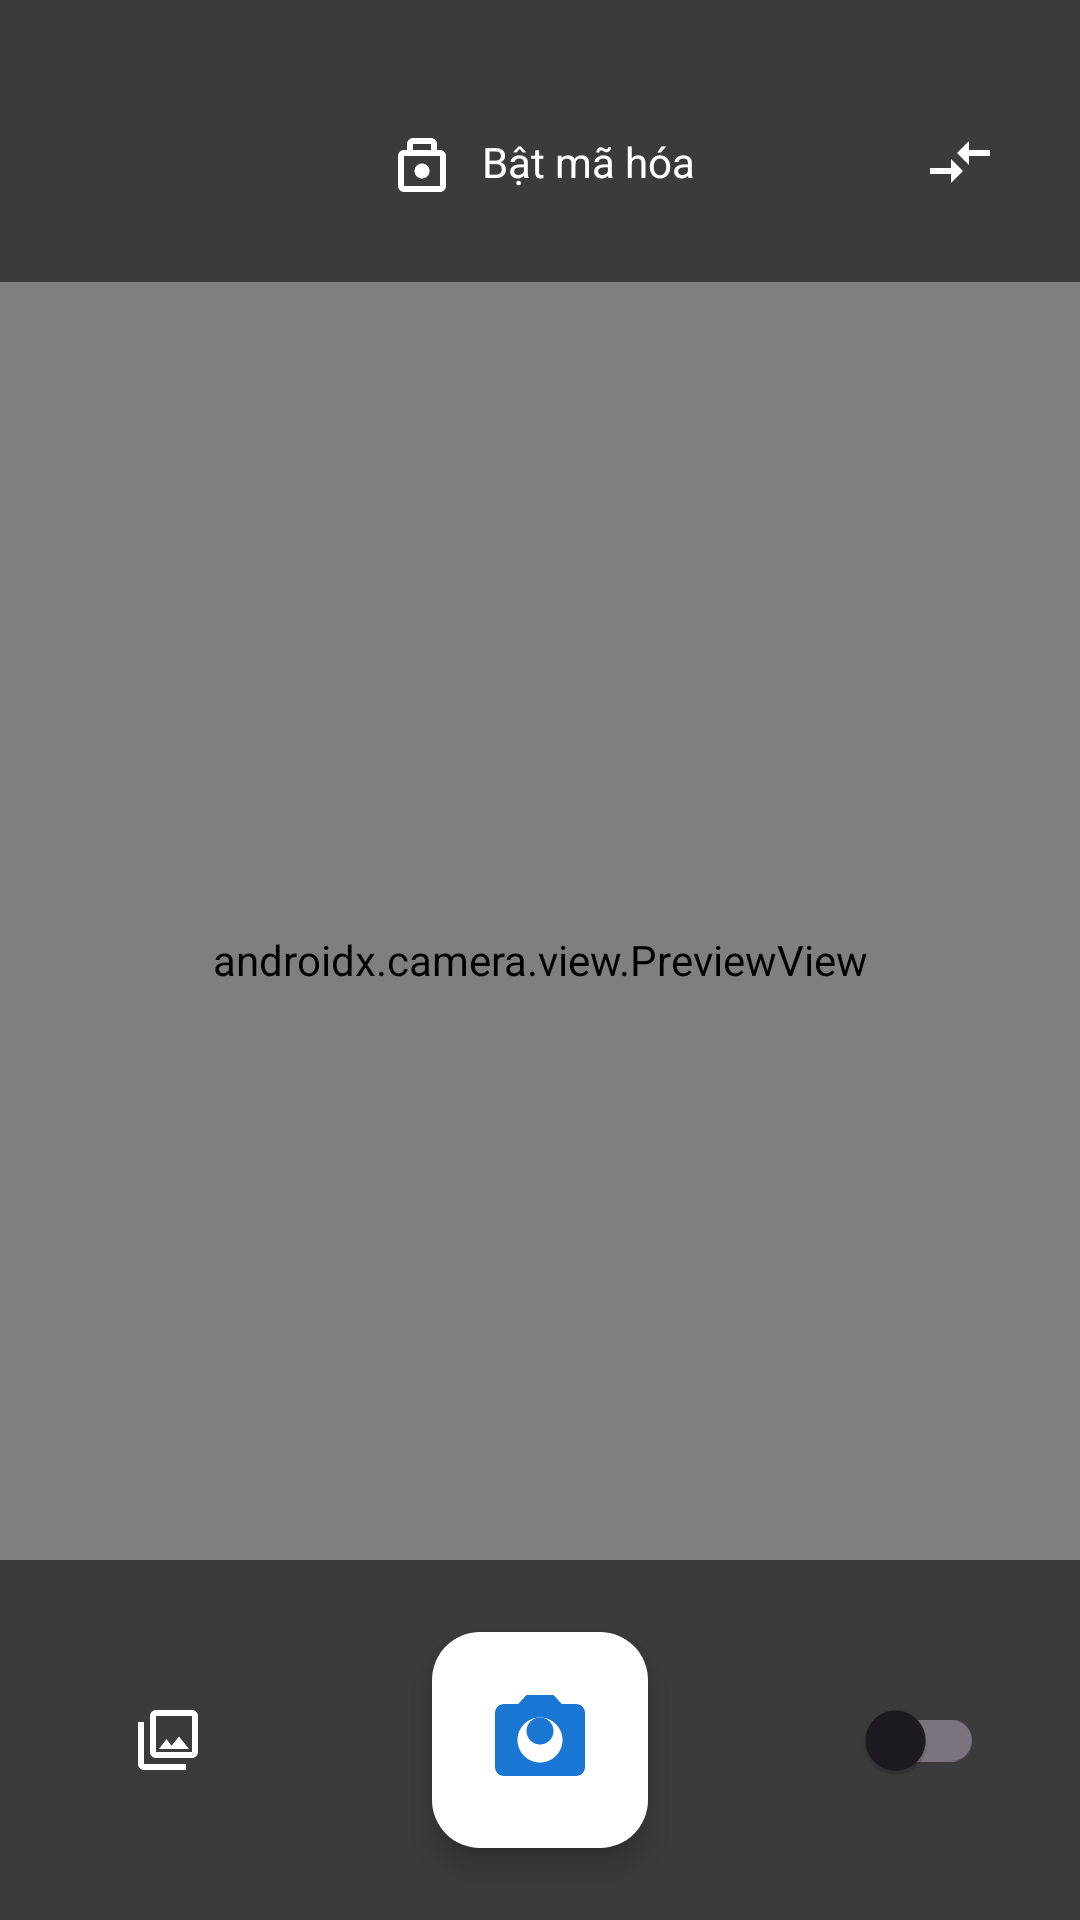

Screen size 1080x1920. Icon name, then its center in pixels as (x,y):
Chụp ảnh: (540,1740)
Thư viện: (168,1740)
Đổi camera: (960,162)
